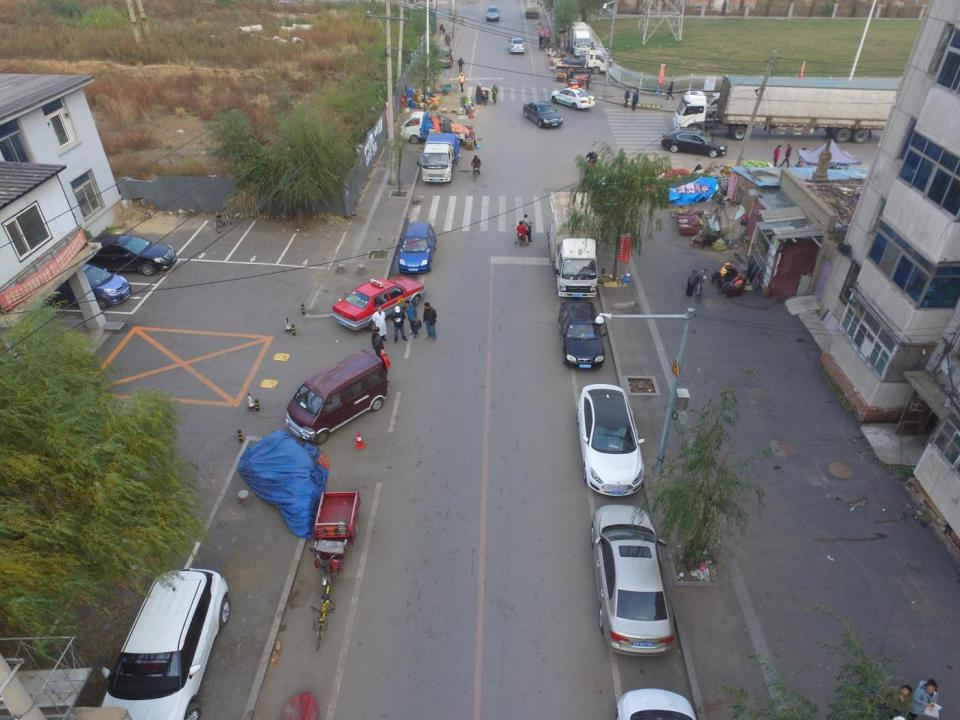car: (98, 567, 230, 719), (590, 503, 675, 658), (576, 384, 646, 497), (331, 276, 426, 331), (68, 234, 177, 276), (40, 262, 132, 309), (558, 300, 608, 371), (398, 222, 438, 274), (660, 128, 728, 158), (522, 100, 563, 129), (550, 84, 595, 110), (507, 37, 526, 54), (485, 6, 500, 21)
truck: (674, 76, 908, 145), (546, 192, 606, 298), (400, 111, 472, 145), (416, 131, 458, 183), (554, 50, 608, 75), (566, 21, 594, 57), (524, 0, 540, 18)
van: (285, 348, 388, 446), (432, 43, 453, 69)
